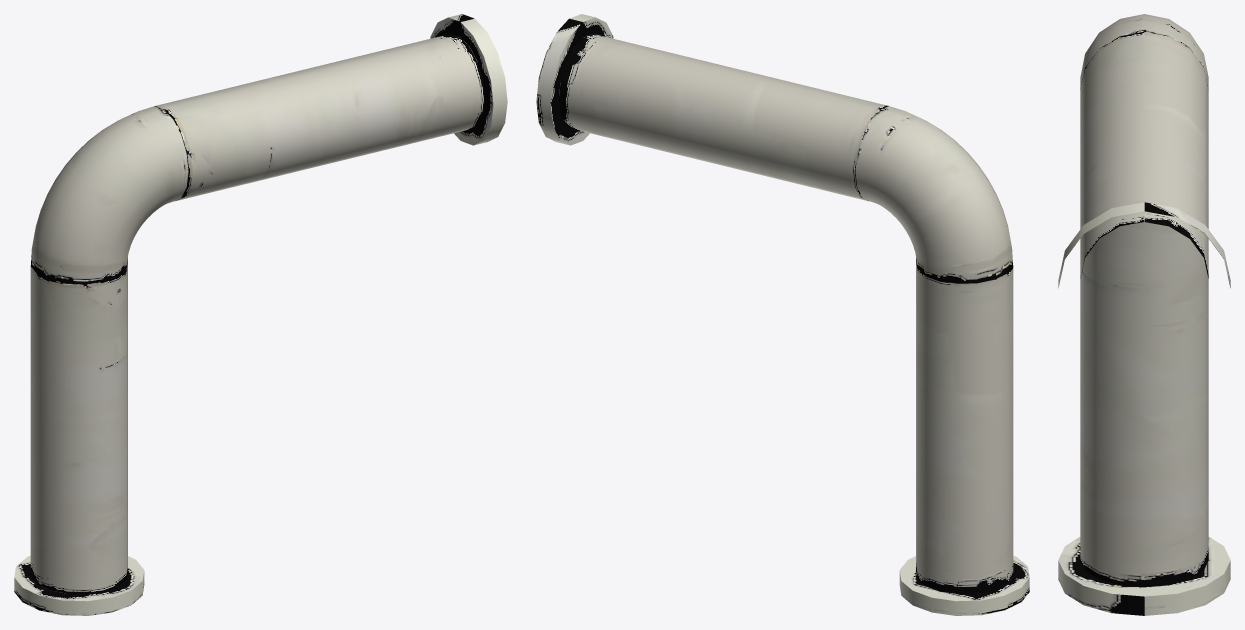
3 views of the same model, side by side, from view 1: azimuth 30°, elevation 25°; view 2: azimuth 150°, elevation 25°; view 3: azimuth 270°, elevation 25° (orthographic). The views are drawn at different scales.
Visible parts, largest first — view 1: body0_model0_lod0_mesh0; view 2: body0_model0_lod0_mesh0; view 3: body0_model0_lod0_mesh0.
Part boxes in pixels (<box>): body0_model0_lod0_mesh0: <box>14,14,507,615</box>; body0_model0_lod0_mesh0: <box>536,14,1029,615</box>; body0_model0_lod0_mesh0: <box>1058,14,1230,615</box>.
Bounding box in the file's own units: 128 × 128 × 32.17.
Materials: 1 (1 with a texture image).
